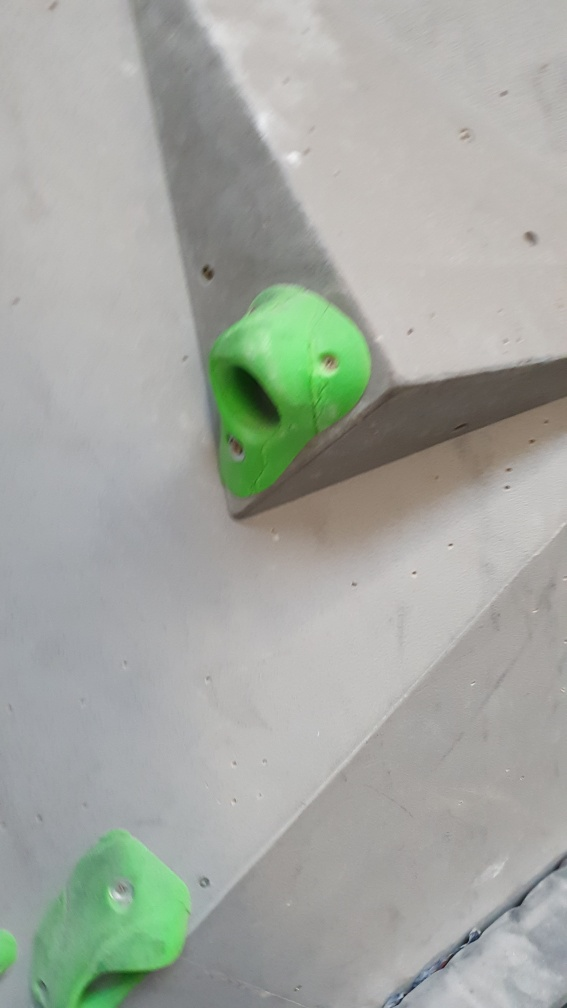Pocket: (210, 284, 371, 501)
